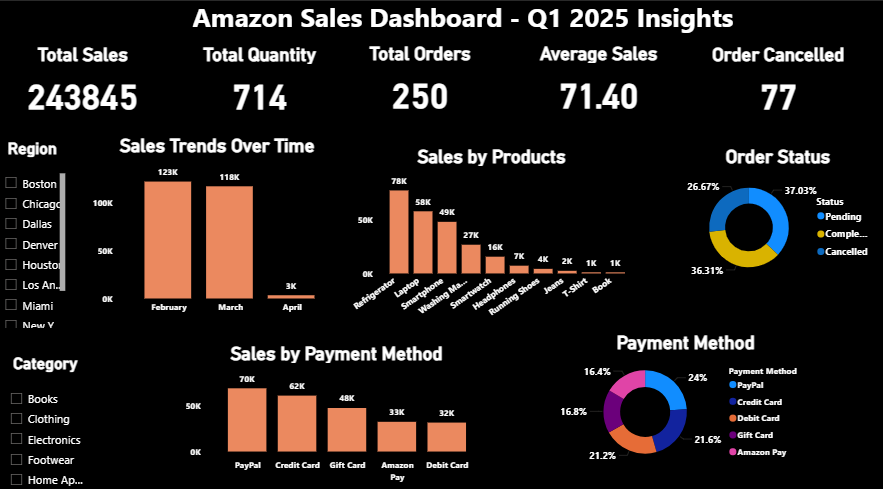

The page's visual inventory and layout, read from the dashboard file:
{"tool":"powerbi","page":{"name":"Executive Summary","canvas":[1280,720],"ordinal":0},"visuals":[{"type":"textbox","box":[275,0,786.2,67.5],"z":0},{"type":"card","title":"Total Sales","fields":{"Values":["Sum(amazon_sales_data 2025.Total Sales)"]},"box":[30,68,188,114],"z":1000},{"type":"card","title":"Total Quantity","fields":{"Values":["amazon_sales_data 2025.Total Quantity Sold"]},"box":[275,68,202,114],"z":2000},{"type":"card","title":"Total Orders","fields":{"Values":["amazon_sales_data 2025.Total Orders"]},"box":[506,67,200,114],"z":3000},{"type":"card","title":"Order Cancelled","fields":{"Values":["amazon_sales_data 2025.Cancelled Orders"]},"box":[1008,68,218,114],"z":4000},{"type":"card","title":"Average Sales","fields":{"Values":["amazon_sales_data 2025.Average Sales per Customer"]},"box":[750,67,222,114],"z":5000},{"type":"columnChart","title":"Sales Trends Over Time","fields":{"Category":["Calendar.Month Name"],"Y":["Sum(amazon_sales_data 2025.Total Sales)"]},"box":[133,198,366,265],"z":6000},{"type":"columnChart","title":"Sales by Payment Method","fields":{"Y":["Sum(amazon_sales_data 2025.Total Sales)"],"Category":["amazon_sales_data 2025.Payment Method"]},"box":[265,496.2,441.2,207.5],"z":7000},{"type":"clusteredColumnChart","title":"Sales by Products ","fields":{"Category":["amazon_sales_data 2025.Product"],"Y":["Sum(amazon_sales_data 2025.Total Sales)"]},"box":[498.8,213.8,418.8,257.5],"z":8000},{"type":"slicer","title":"Region","fields":{"Values":["amazon_sales_data 2025.Customer Location"]},"box":[0,205,103.8,275],"z":9000},{"type":"slicer","title":"Category","fields":{"Values":["amazon_sales_data 2025.Category"]},"box":[8.8,512.5,123.8,207.5],"z":10000},{"type":"donutChart","title":"Order Status","fields":{"Category":["amazon_sales_data 2025.Status"],"Y":["Sum(amazon_sales_data 2025.Total Sales)"]},"box":[974.3,214.3,285.7,205.7],"z":11000},{"type":"donutChart","title":"Payment Method","fields":{"Category":["amazon_sales_data 2025.Payment Method"],"Y":["CountNonNull(amazon_sales_data 2025.Payment Method)"]},"box":[802.5,480,365,201.2],"z":12000}]}

Visuals, with their boxes in screenshot pixels (x1, y1, x2, y2), scaled from the page's 1280x720 canvas onto the 883x489 screenshot:
textbox: (190,0,732,46)
"Total Sales" card: (21,46,150,124)
"Total Quantity" card: (190,46,329,124)
"Total Orders" card: (349,46,487,123)
"Order Cancelled" card: (695,46,846,124)
"Average Sales" card: (517,46,671,123)
"Sales Trends Over Time" columnChart: (92,134,344,314)
"Sales by Payment Method" columnChart: (183,337,487,478)
"Sales by Products " clusteredColumnChart: (344,145,633,320)
"Region" slicer: (0,139,72,326)
"Category" slicer: (6,348,91,488)
"Order Status" donutChart: (672,146,869,285)
"Payment Method" donutChart: (554,326,805,463)
